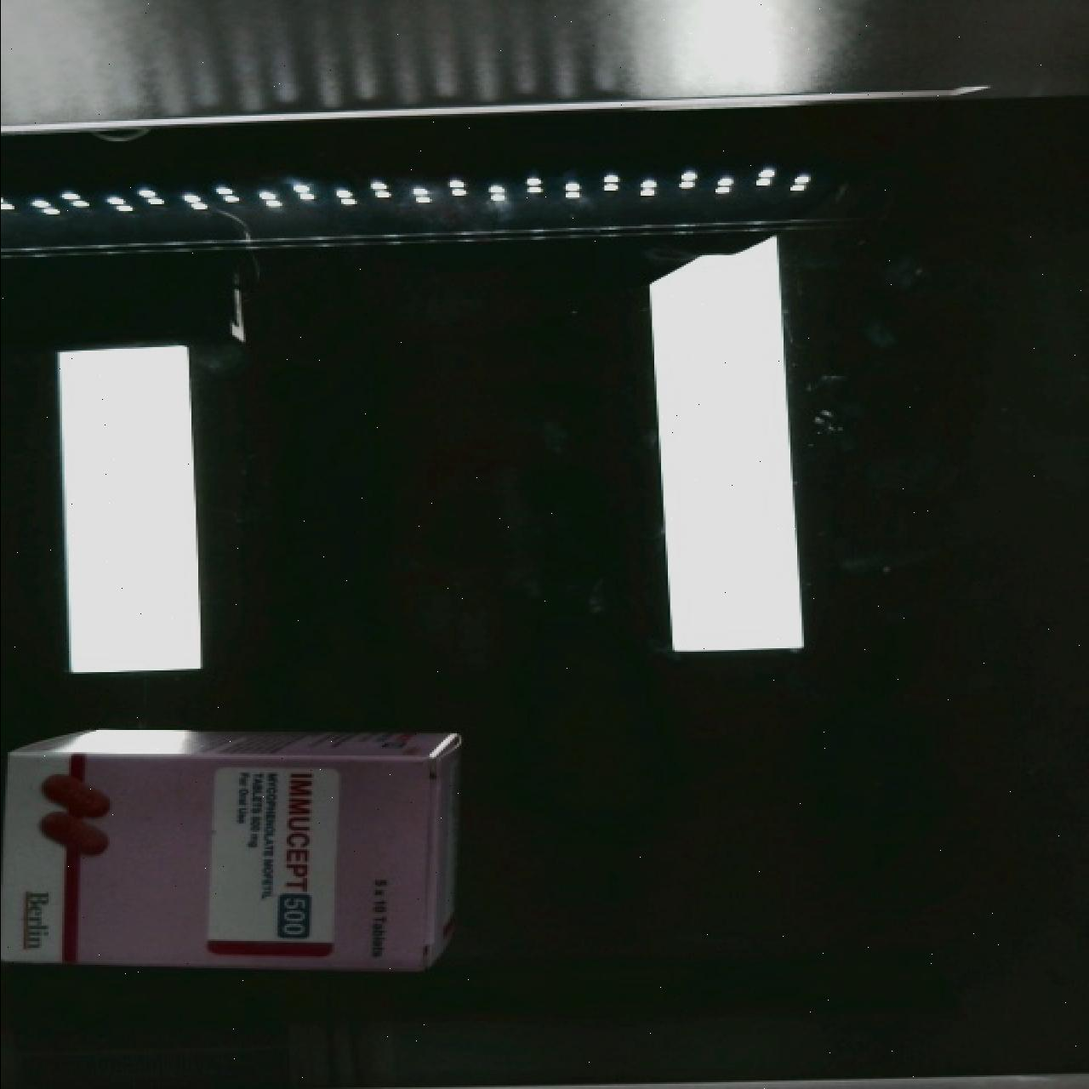medicine_label_obb: (263, 766, 334, 957)
